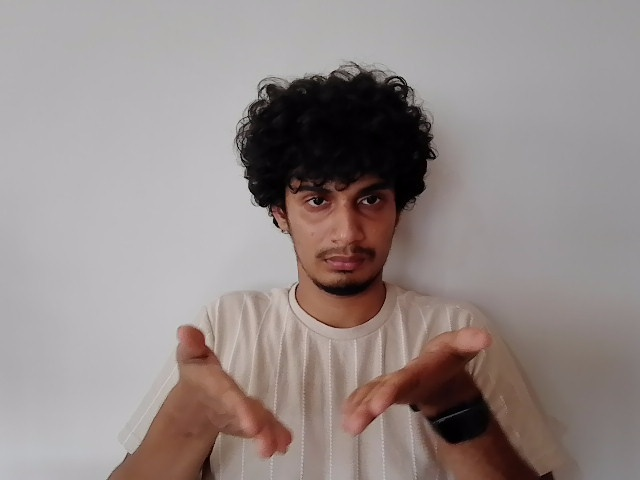here: (169, 323, 497, 445)
